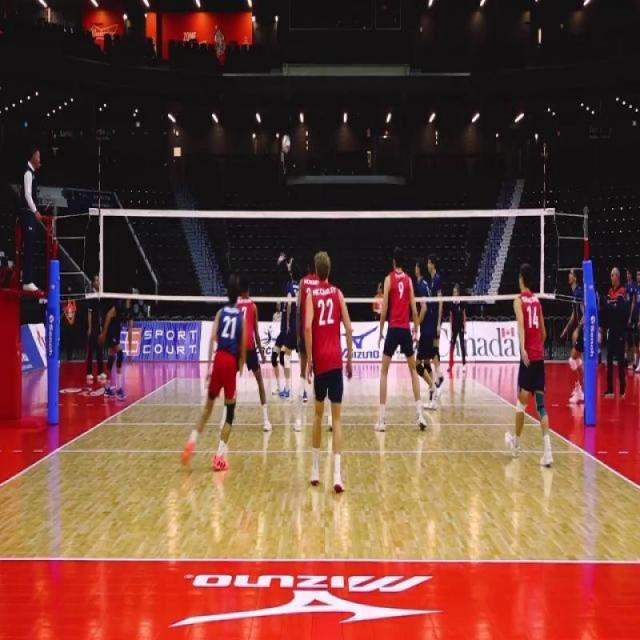volleyball: (282, 133, 290, 155)
